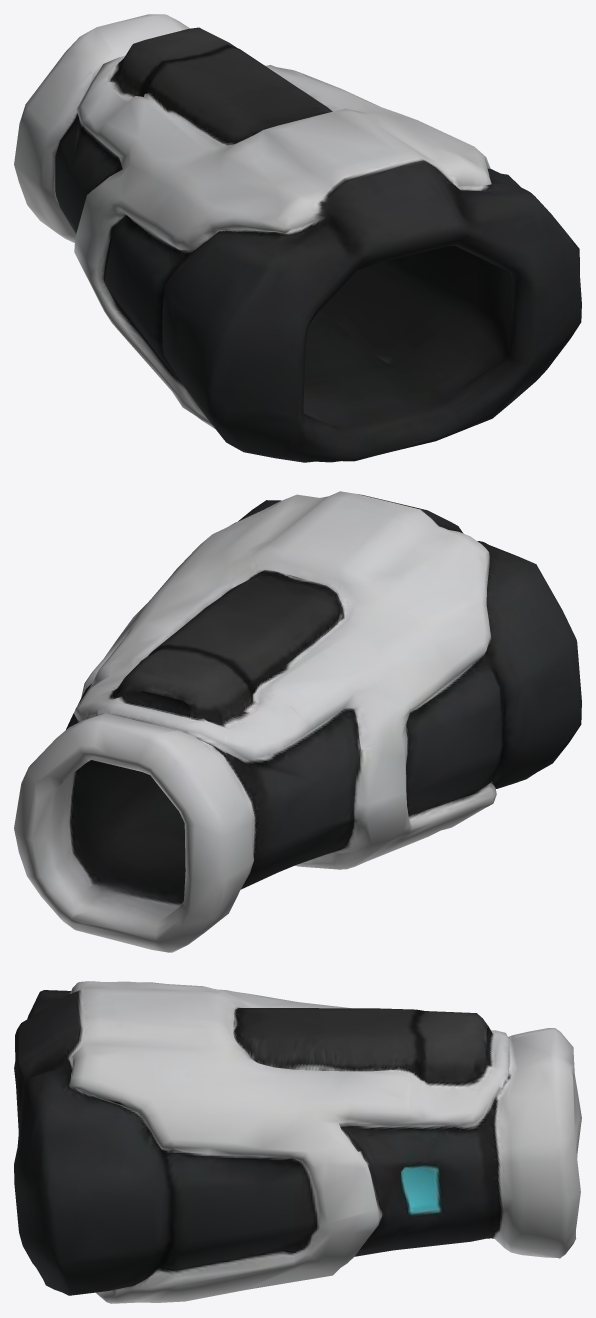
The model's file is prop-nano-blade-hilt.glb.
3 renders of one model, top to bottom at view 1: azimuth 30°, elevation 25°; view 2: azimuth 150°, elevation 25°; view 3: azimuth 270°, elevation 25°, orthographic. The views are drawn at different scales.
Parts seen in each view (by area): view 1: model; view 2: model; view 3: model.
Boxes of the visible parts, x1,y1,x2,y2 form: model: [14, 14, 581, 462]; model: [14, 491, 581, 952]; model: [14, 981, 581, 1303].
Bounding box in the file's own units: 0.7011 × 0.5136 × 1.
1 material, 1 textured.
